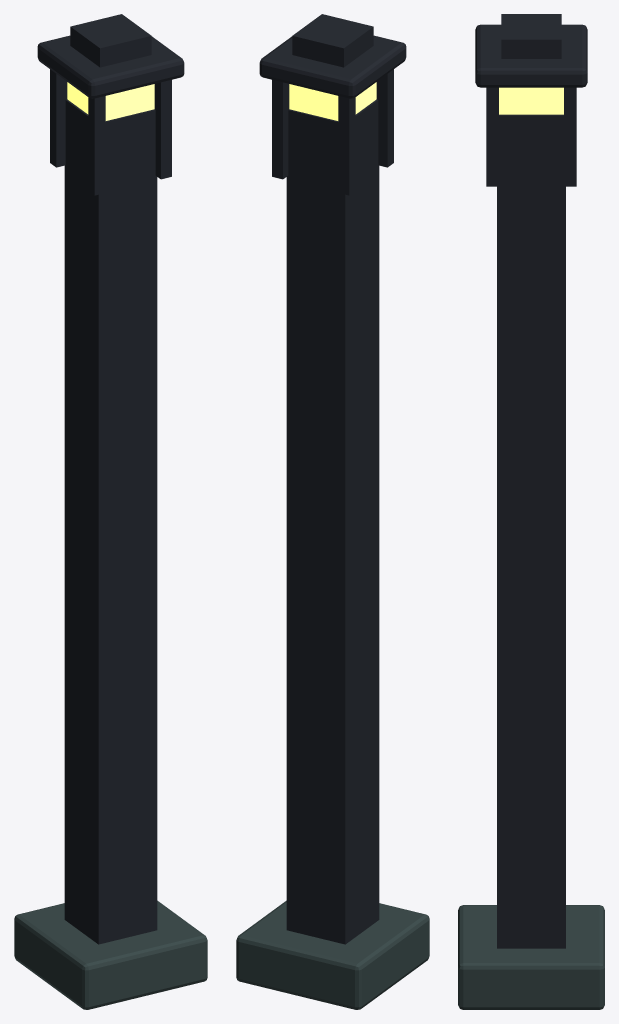
File: env-lantern-a.glb
3 views of the same model, side by side, from view 1: azimuth 30°, elevation 25°; view 2: azimuth 150°, elevation 25°; view 3: azimuth 270°, elevation 25° (orthographic).
Parts seen in each view (by area): view 1: COL_post, VIS_plinth, VIS_cap, VIS_cap_peak, VIS_rib_1, VIS_glass, VIS_rib_2, VIS_rib_3; view 2: COL_post, VIS_plinth, VIS_cap, VIS_cap_peak, VIS_rib_3, VIS_glass, VIS_rib_4, VIS_rib_1; view 3: COL_post, VIS_plinth, VIS_cap, VIS_cap_peak, VIS_glass, VIS_rib_2, VIS_rib_4.
Part boxes in pixels (x1,y1,x2,y2): COL_post: (64,99,157,944); VIS_plinth: (14,900,207,1009); VIS_cap: (37,35,184,98); VIS_cap_peak: (70,14,151,67); VIS_rib_1: (88,96,105,195); VIS_glass: (67,82,154,120); VIS_rib_2: (154,79,171,179); VIS_rib_3: (50,69,67,167); COL_post: (286,99,379,944); VIS_plinth: (236,900,429,1009); VIS_cap: (259,35,406,98); VIS_cap_peak: (292,14,373,67); VIS_rib_3: (338,96,355,195); VIS_glass: (289,82,376,120); VIS_rib_4: (272,79,289,179); VIS_rib_1: (376,69,393,167); COL_post: (497,114,565,948); VIS_plinth: (458,905,604,1009); VIS_cap: (475,24,587,87); VIS_cap_peak: (501,14,561,58); VIS_glass: (499,87,563,114); VIS_rib_2: (486,87,498,186); VIS_rib_4: (564,87,576,186).
Size of the model in its own units: 0.34 by 2.44 by 0.34.
